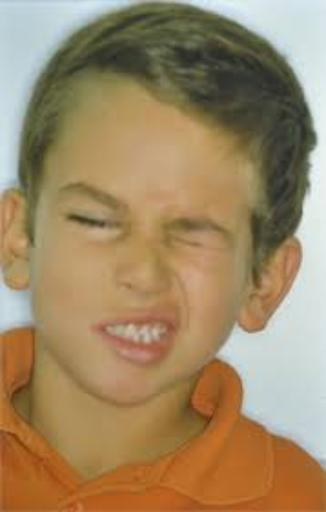left_eye: (166, 229, 231, 258)
left_lip_corner: (167, 310, 183, 338)
right_eye: (60, 203, 129, 235)
right_lip_corner: (86, 318, 112, 342)
